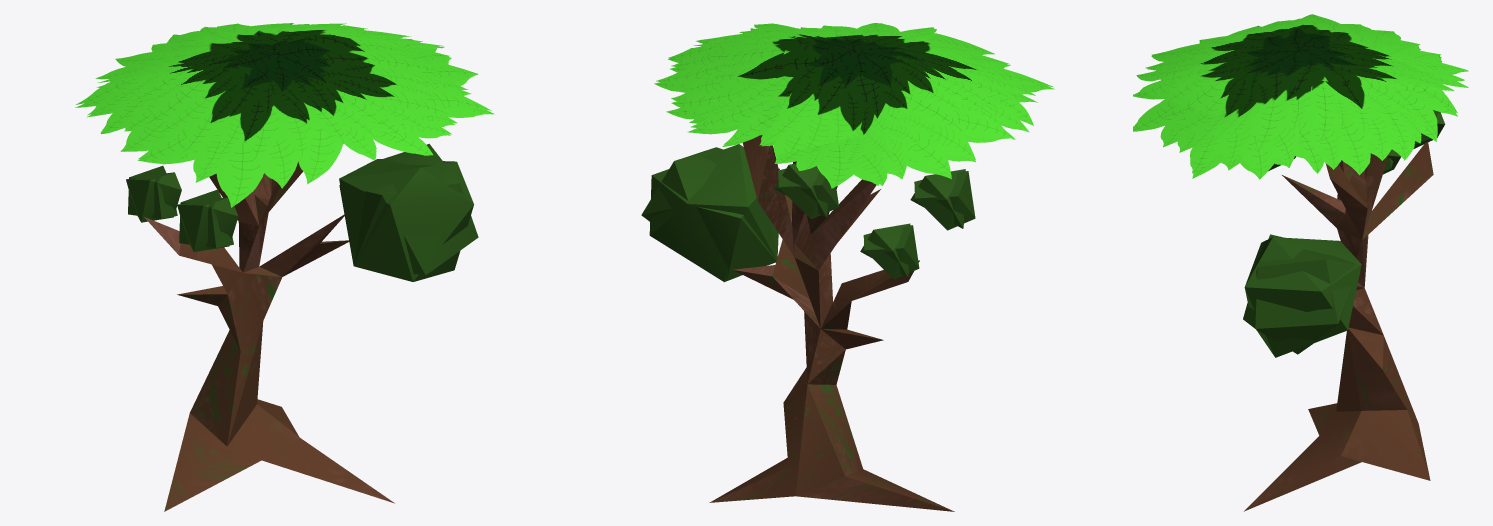
File: ArvoreSavana2LOD1.fbx
3 views of the same model, side by side, from view 1: azimuth 30°, elevation 25°; view 2: azimuth 150°, elevation 25°; view 3: azimuth 270°, elevation 25° (orthographic). The views are drawn at different scales.
Visible parts, largest first — view 1: FolhasArvoreSavana2LOD1; view 2: FolhasArvoreSavana2LOD1; view 3: FolhasArvoreSavana2LOD1.
Boxes of the visible parts, box(x1,y1,x2,y2) form: FolhasArvoreSavana2LOD1: box(75, 23, 494, 511); FolhasArvoreSavana2LOD1: box(641, 23, 1054, 511); FolhasArvoreSavana2LOD1: box(1133, 14, 1468, 511).
Size of the model in its own units: 729 by 867 by 644.
